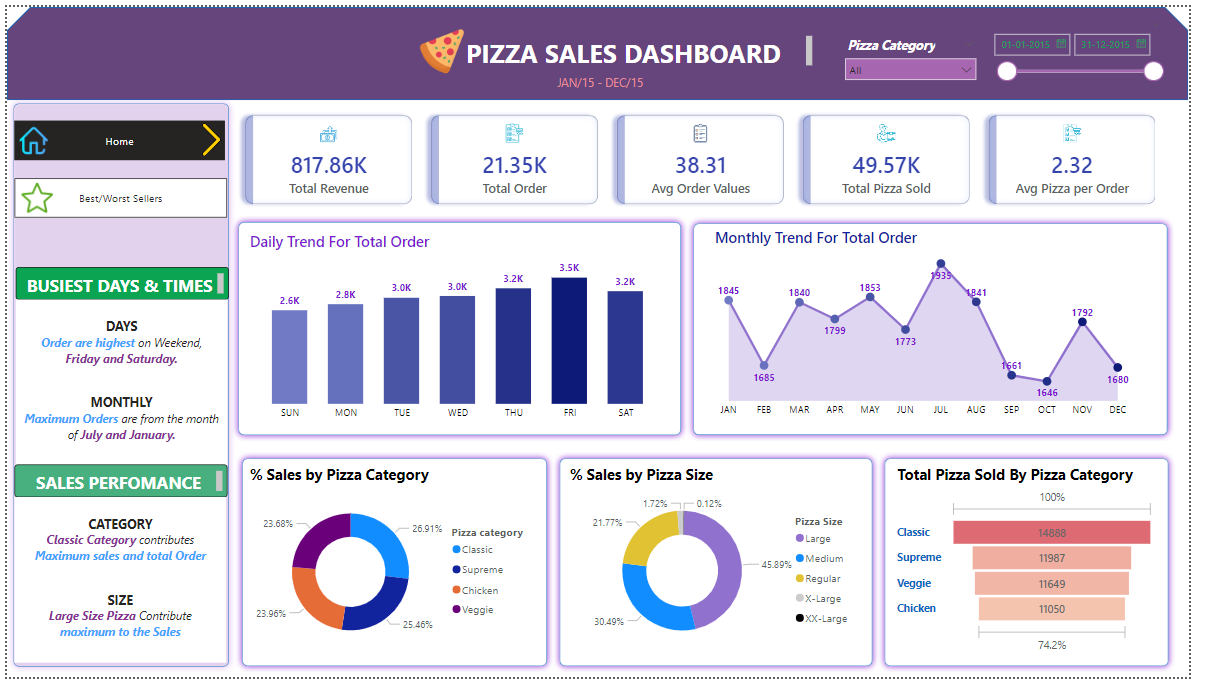

The dashboard page shown, as its layout file describes it:
{"tool":"powerbi","page":{"name":"Home","canvas":[1500,850],"ordinal":0},"visuals":[{"type":"cardVisual","fields":{"Data":["pizza_sales.Total Revenue","pizza_sales.Total Order","pizza_sales.Avg Order Values","pizza_sales.Total Pizza Sold","pizza_sales.Avg Pizza per Order"]},"box":[285.7,120,1177.1,147.1],"z":0},{"type":"shape","box":[0,0,1500,118.3],"z":1000},{"type":"textbox","box":[578.3,31.7,450,50],"z":2000},{"type":"image","box":[506.7,21.7,91.7,68.3],"z":3000},{"type":"textbox","box":[693.3,81.7,136.7,36.7],"z":4000},{"type":"shape","box":[285,265,578.3,286.7],"z":5000},{"type":"columnChart","title":"Daily Trend For Total Order ","fields":{"Category":["pizza_sales.Order Day"],"Y":["pizza_sales.Total Order"]},"box":[303.3,283.3,540,250],"z":6000},{"type":"shape","box":[863.3,266.7,618.3,285],"z":7000},{"type":"areaChart","title":"Monthly Trend For Total Order ","fields":{"Category":["pizza_sales.Order Month"],"Y":["pizza_sales.Total Order"]},"box":[893.3,280,540,250],"z":8000},{"type":"shape","box":[290,565,403.3,280],"z":9000},{"type":"shape","box":[693.3,565,413.3,280],"z":10000},{"type":"shape","box":[1106.7,565,376.7,280],"z":11000},{"type":"donutChart","title":"% Sales by Pizza Category","fields":{"Category":["pizza_sales.pizza_category"],"Y":["pizza_sales.Total Revenue"]},"box":[303.3,581.7,373.3,248.3],"z":12000},{"type":"donutChart","title":"% Sales by Pizza Size","fields":{"Y":["pizza_sales.Total Revenue"],"Category":["pizza_sales.pizza_size"]},"box":[710,581.7,375,245],"z":13000},{"type":"funnel","title":"Total Pizza Sold By Pizza Category","fields":{"Category":["pizza_sales.pizza_category"],"Y":["pizza_sales.Total Pizza Sold"]},"box":[1125,581.7,336.7,245],"z":14000},{"type":"shape","box":[0,114.3,290,731.4],"z":15000},{"type":"textbox","box":[11.4,330,270,41.4],"z":16000},{"type":"textbox","box":[11.4,371.4,268.6,210],"z":17000},{"type":"textbox","box":[10,581.4,270,41.4],"z":18000},{"type":"textbox","box":[10,622.9,268.6,210],"z":19000},{"type":"slicer","fields":{"Values":["pizza_sales.pizza_category"]},"box":[1054.3,31.4,187.1,68.6],"z":20000},{"type":"slicer","fields":{"Values":["pizza_sales.order_date"]},"box":[1241.4,15.7,235.7,101.4],"z":21000},{"type":"pageNavigator","box":[10,144.3,267.1,50],"z":22000},{"type":"pageNavigator","box":[10,217.1,270,50],"z":23000},{"type":"image","box":[232.9,142.9,52.9,51.4],"z":24000},{"type":"image","box":[11.4,144.3,45.7,50],"z":25000},{"type":"image","box":[11.4,217.1,54.3,50],"z":26000}]}

Visuals, with their boxes in screenshot pixels (x1, y1, x2, y2), scaled from the page's 1500x850 canvas onto the 1212x695 screenshot:
cardVisual - pizza_sales.Total Revenue x pizza_sales.Total Order: 231, 98, 1182, 218
shape: 0, 0, 1211, 97
textbox: 467, 26, 831, 67
image: 409, 18, 484, 74
textbox: 560, 67, 671, 97
shape: 230, 217, 698, 451
"Daily Trend For Total Order " columnChart: 245, 232, 681, 436
shape: 698, 218, 1197, 451
"Monthly Trend For Total Order " areaChart: 722, 229, 1158, 433
shape: 234, 462, 560, 691
shape: 560, 462, 894, 691
shape: 894, 462, 1199, 691
"% Sales by Pizza Category" donutChart: 245, 476, 547, 679
"% Sales by Pizza Size" donutChart: 574, 476, 877, 676
"Total Pizza Sold By Pizza Category" funnel: 909, 476, 1181, 676
shape: 0, 93, 234, 691
textbox: 9, 270, 227, 304
textbox: 9, 304, 226, 475
textbox: 8, 475, 226, 509
textbox: 8, 509, 225, 681
slicer - pizza_sales.pizza_category: 852, 26, 1003, 82
slicer - pizza_sales.order_date: 1003, 13, 1193, 96
pageNavigator: 8, 118, 224, 159
pageNavigator: 8, 178, 226, 218
image: 188, 117, 231, 159
image: 9, 118, 46, 159
image: 9, 178, 53, 218
